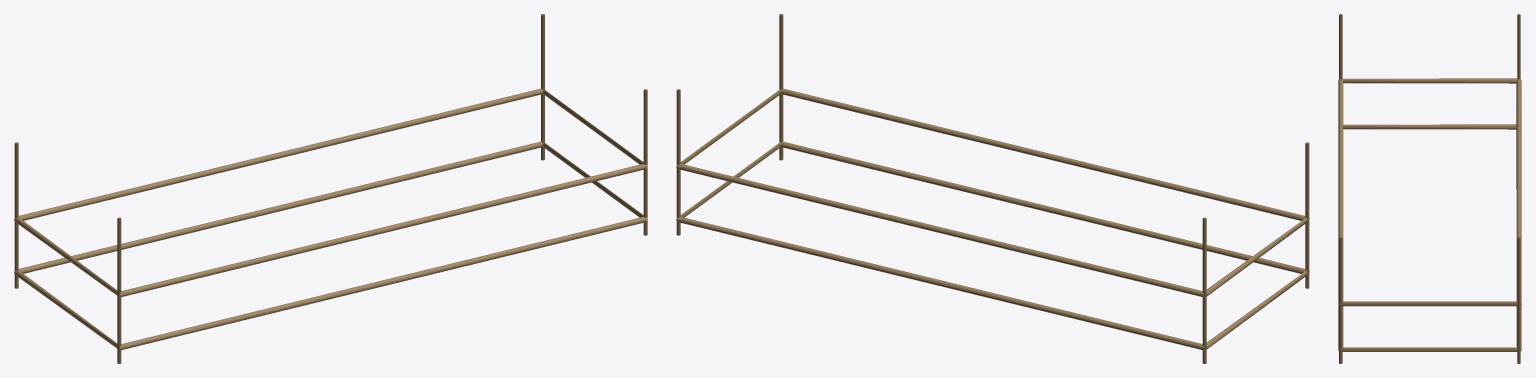
Rendered from brassRail.glb.
3 renders of one model, left to right at view 1: azimuth 30°, elevation 25°; view 2: azimuth 150°, elevation 25°; view 3: azimuth 270°, elevation 25°, orthographic. The views are drawn at different scales.
Parts seen in each view (by area): view 1: brassRail; view 2: brassRail; view 3: brassRail.
Boxes of the visible parts, box(x1,y1,x2,y2) form: brassRail: box(14, 14, 647, 363); brassRail: box(676, 14, 1309, 363); brassRail: box(1338, 14, 1521, 363).
Bounding box in the file's own units: 4.3 × 1.12 × 1.48.
